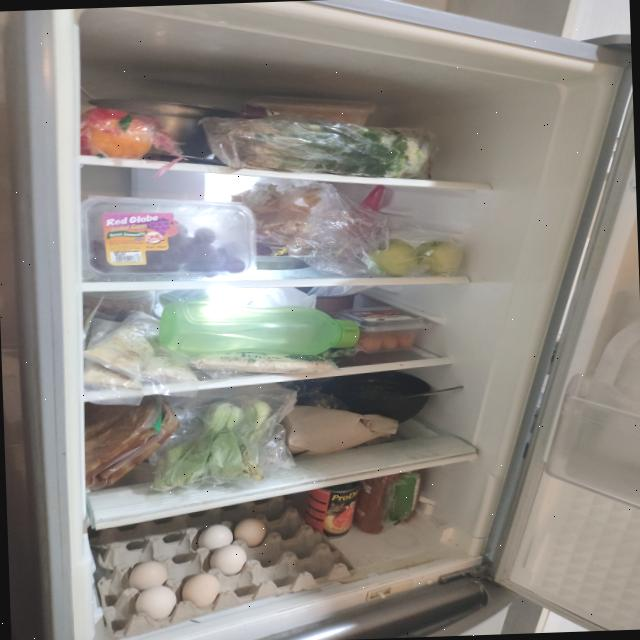apple: (365, 234, 464, 278)
egg: (93, 492, 360, 640)
grape: (79, 188, 258, 284)
leafy_greens: (203, 112, 430, 185)
orange: (80, 114, 154, 160)
pakchoy: (150, 398, 276, 491)
tempeh: (80, 308, 200, 392), (195, 349, 334, 377)
